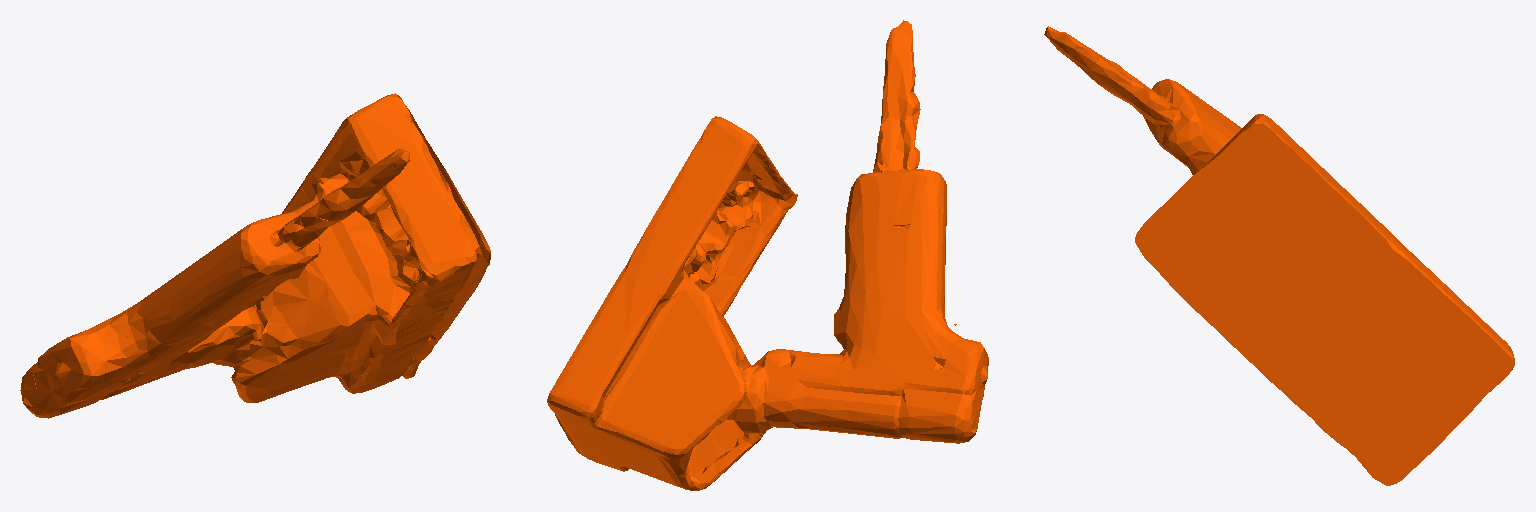
URDF robot description (solder_iron_head):
<?xml version="1.0" ?>
<robot name="solder_iron_head">
   <material name="obj_color">
      <color rgba="1.0 0.423529411765 0.0392156862745 1.0"/>
   </material>
   <link name="top">
      <inertial>
         <origin rpy="0.00247141123361721 0.004410154971326986 0.006054466018351298" xyz="1.896254400960886e-05 0.01525055236551179 -0.01111968188074082"/>
         <mass value="1.28377003097225"/>
         <inertia ixx="0.003239873740838212" ixy="-0.0009237774984051628" ixz="0.0003740945787756304" iyy="0.004653823610715968" iyz="0.001150495299484782" izz="0.005042334871741314"/>
      </inertial>
      <visual>
         <origin rpy="0 0 0" xyz="0 0 0"/>
         <geometry>
            <mesh filename="top_watertight_tiny.stl" scale="1 1 1"/>
         </geometry>
         <material name="obj_color"/>
      </visual>
      <collision>
         <origin rpy="0 0 0" xyz="0 0 0"/>
         <geometry>
            <mesh filename="top_watertight_tiny.obj" scale="1 1 1"/>
         </geometry>
      </collision>
   </link>
   <link name="bottom">
      <inertial>
         <origin rpy="1.633333333199431e-08 1.633333333199431e-08 1.633333333362855e-08" xyz="0.3464080000000008 0.3464080000000008 0.3464080000000008"/>
         <mass value="0.0009800000000000017"/>
         <inertia ixx="1.633333333253906e-08" ixy="5.447480642029219e-19" ixz="5.447480642029219e-19" iyy="1.633333333253906e-08" iyz="5.447480642029219e-19" izz="1.633333333253906e-08"/>
      </inertial>
      <visual>
         <origin rpy="0 0 0" xyz="0 0 0"/>
         <geometry>
            <mesh filename="bottom_watertight_tiny.stl" scale="1 1 1"/>
         </geometry>
         <material name="obj_color"/>
      </visual>
   </link>
   <link name="world"/>
   <joint name="world_to_base" type="fixed">
      <origin xyz="0 0 0"/>
      <axis xyz="0 0 0"/>
      <parent link="world"/>
      <child link="bottom"/>
   </joint>
   <joint name="rotation" type="revolute">
      <origin xyz="0 0 0"/>
      <axis xyz="0 0 -1"/>
      <parent link="bottom"/>
      <child link="top"/>
      <dynamics damping="1.0" friction="1.0"/>
      <limit effort="0.1" velocity="0.1" lower="0" upper="0.001"/>
   </joint>
</robot>

--- Facts derived from the render (not from the file) ---
3 views of the same robot in one strip: view 1: azimuth 30°, elevation 25°; view 2: azimuth 150°, elevation 25°; view 3: azimuth 270°, elevation 25° (orthographic).
Model solder_iron_head with 3 links and 2 joints (1 revolute, 1 fixed), rooted at world, posed all joints at 0.
Visible links, largest first — view 1: top; view 2: top; view 3: top.
Boxes of the visible links, bbox=[...] form: top: bbox=[20, 93, 490, 418]; top: bbox=[547, 20, 988, 490]; top: bbox=[1044, 26, 1514, 485].
Bounding box of the posed robot: 0.2019 × 0.2136 × 0.1907 m (x, y, z).
Meshes: 2 distinct files referenced, 1 mesh visuals loaded (1 binary STL); not drawn: 1 (reference not matched to a file when rendering).
